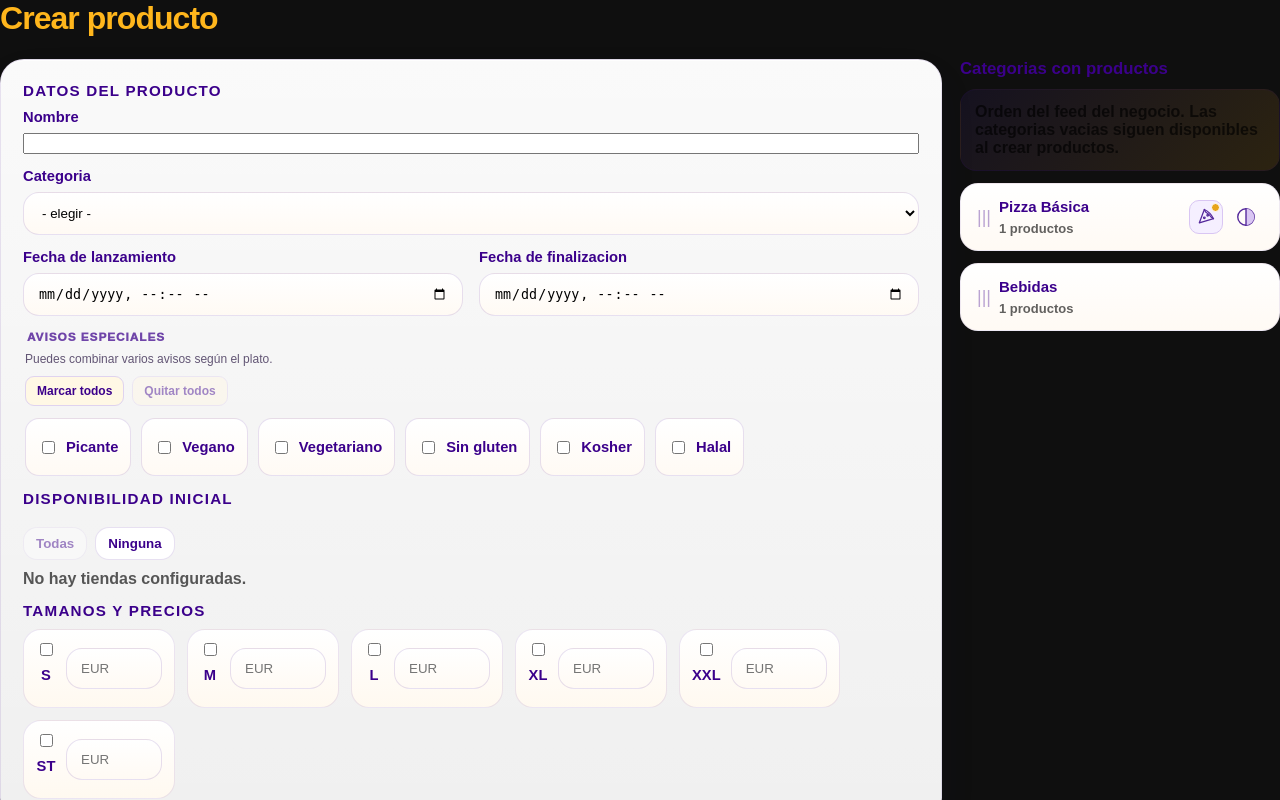
it: category icons follow global flags; price dialog saves configured sizes without opening product list
Click the button named "Configurar precio de la base: Pizza Básica": (1206,217) [1189,200,1223,234]
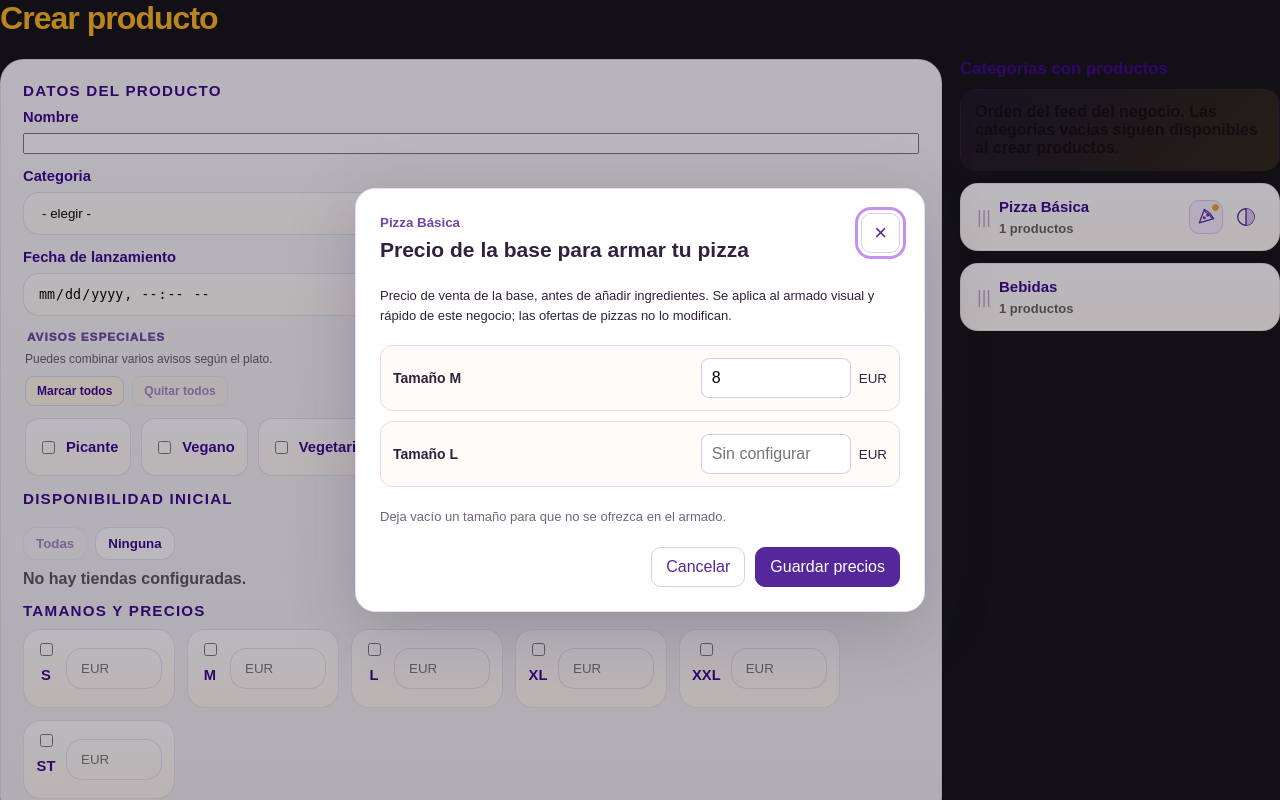
Expected: the number of dialogs is 1, [355,188,925,612]
Expected: the field named "Precio de la base M" holds "8"
Expected: the field named "Precio de la base L" is empty, [701,434,851,474]
Replace the text in the field named "Precio de la base M" with "8,25": (776,378) [701,358,851,398]
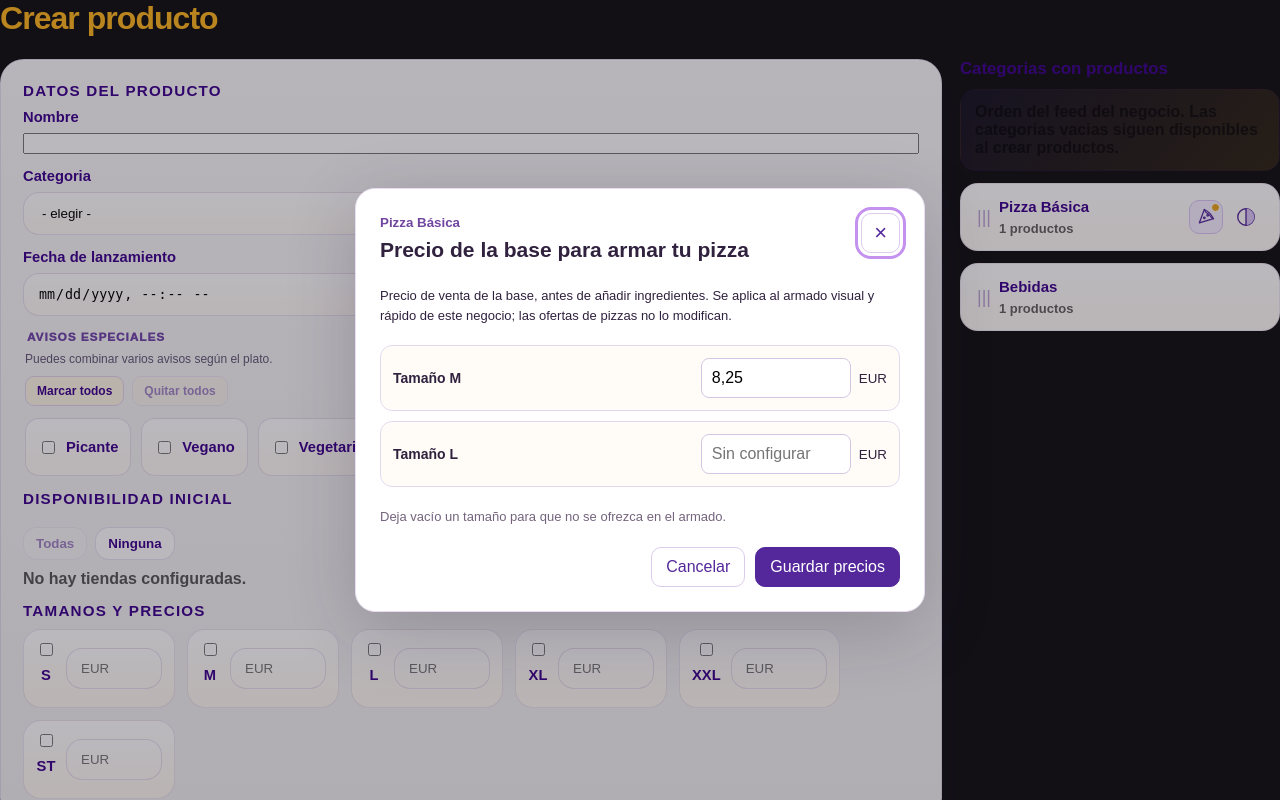
In the field named "Precio de la base L": (776,454) [701,434,851,474], type "10.50"
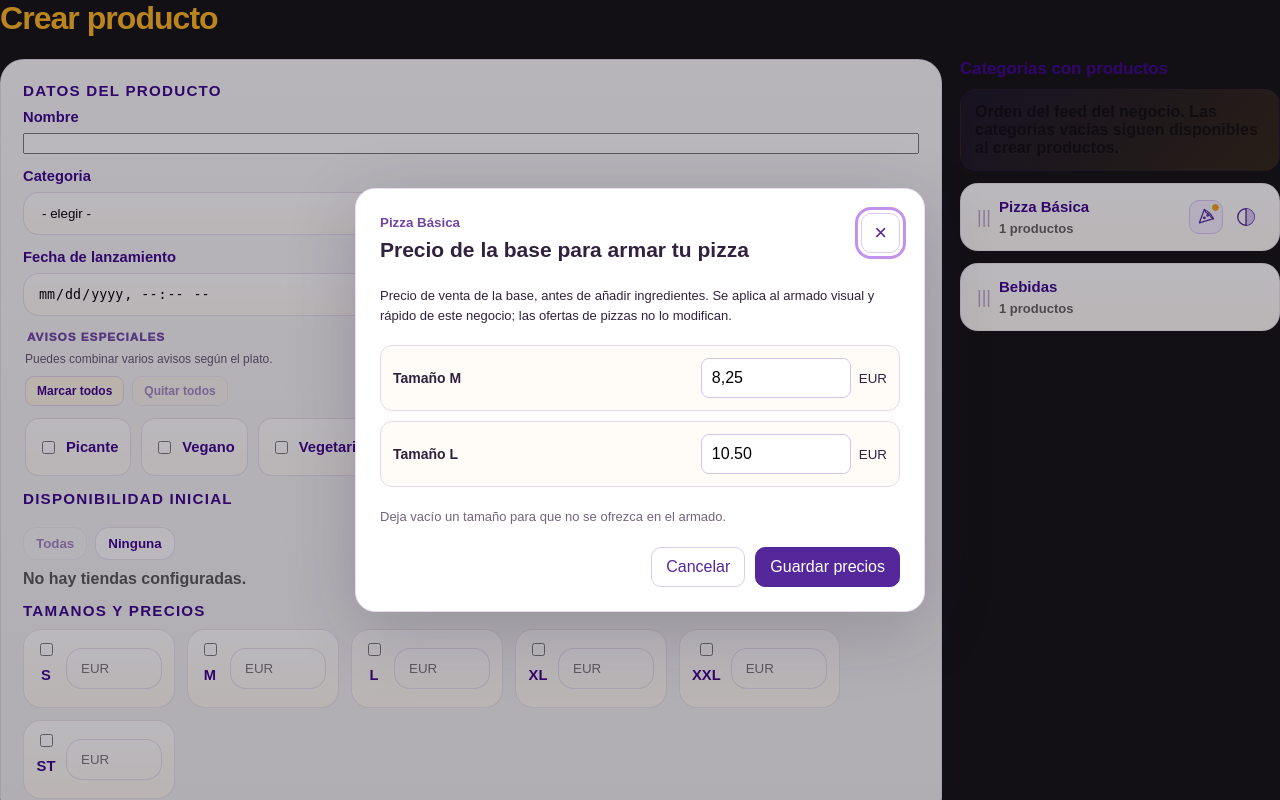
Click the button "Guardar precios": (828,567) [755,547,900,587]
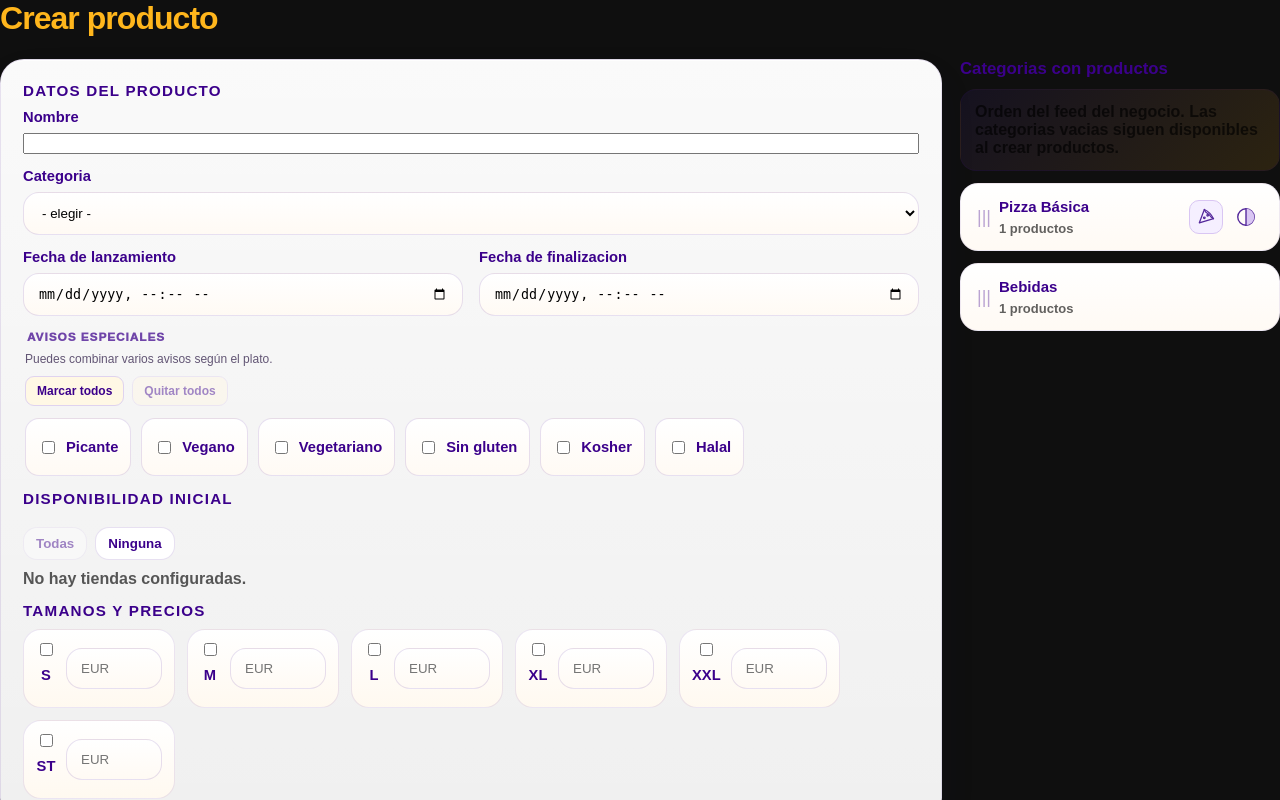
Expected: the dialog is gone
Click the button named "Configurar precio de la base: Pizza Básica": (1206,217) [1189,200,1223,234]
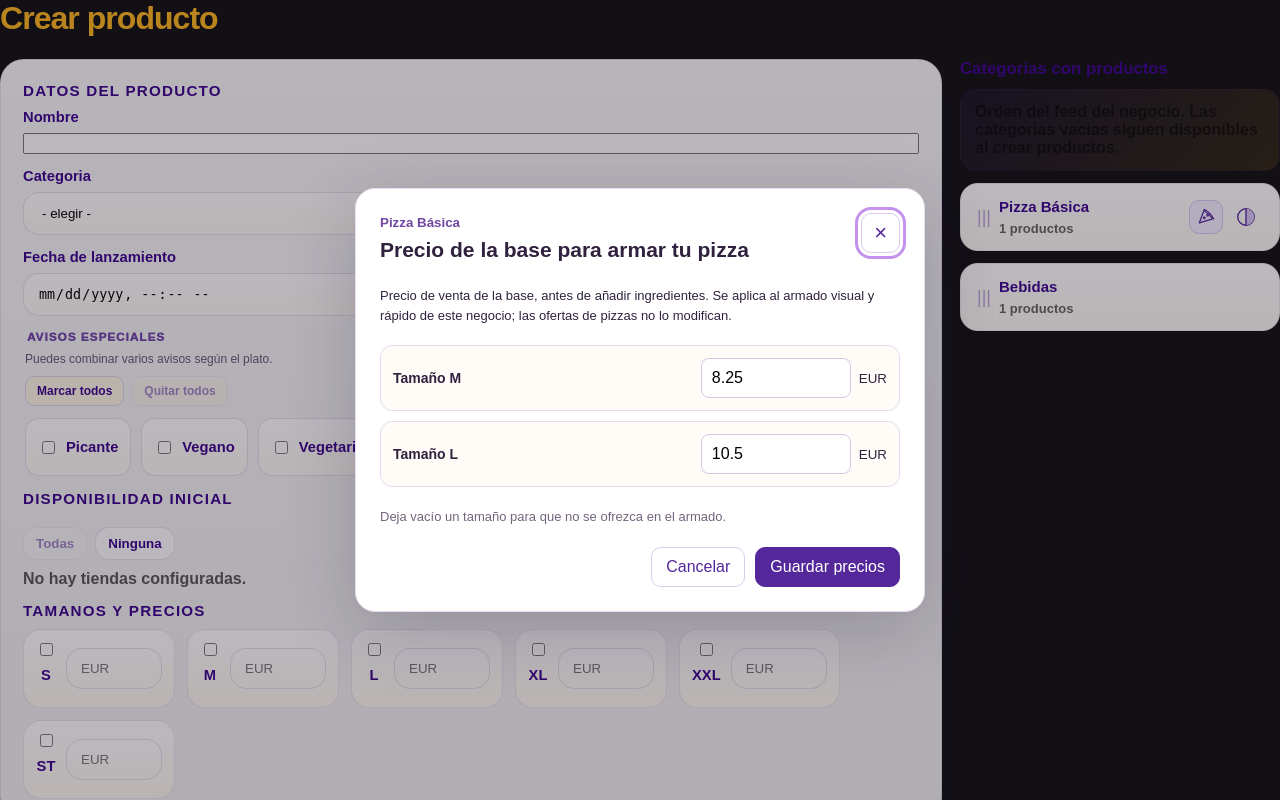
Expected: the field named "Precio de la base M" holds "8.25", [701,358,851,398]
Expected: the field named "Precio de la base L" holds "10.5", [701,434,851,474]
